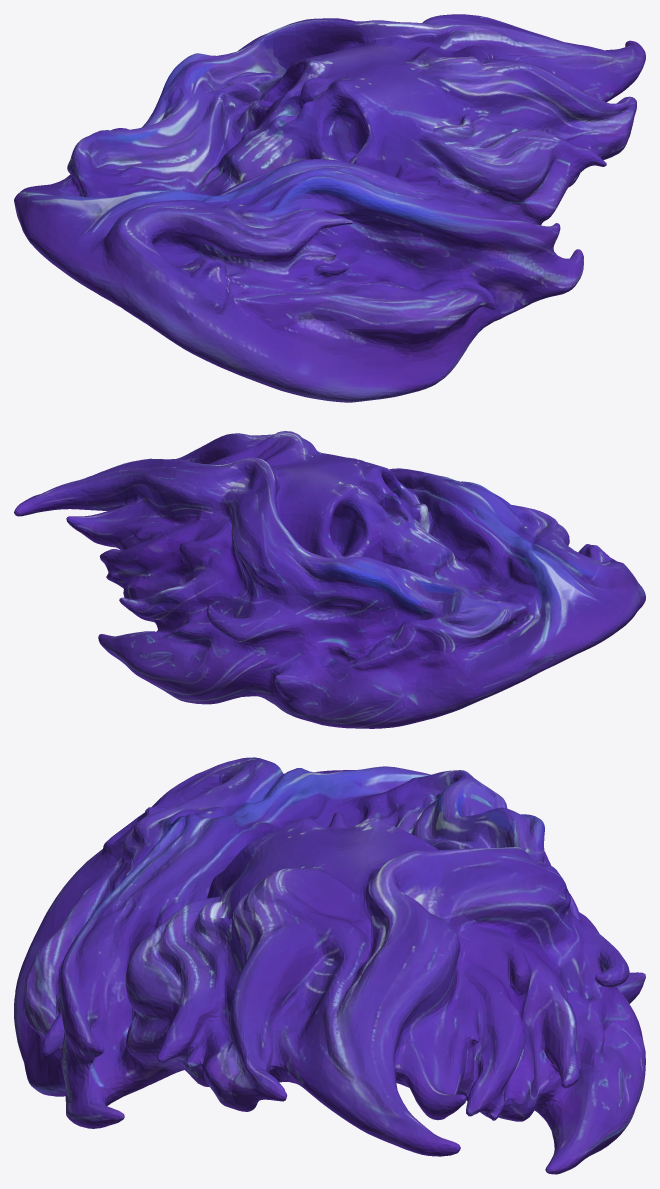
Rendered from purpe-skull-flames.glb.
3 renders of one model, top to bottom at view 1: azimuth 30°, elevation 25°; view 2: azimuth 150°, elevation 25°; view 3: azimuth 270°, elevation 25°, orthographic. The views are drawn at different scales.
Visible parts, largest first — view 1: purpe skull flames_textured.obj; view 2: purpe skull flames_textured.obj; view 3: purpe skull flames_textured.obj.
Boxes of the visible parts, left/top/right/bottom form: purpe skull flames_textured.obj: left=14, top=14, right=645, bottom=402; purpe skull flames_textured.obj: left=14, top=431, right=645, bottom=728; purpe skull flames_textured.obj: left=14, top=757, right=645, bottom=1174.
Size of the model in its own units: 1.99 by 0.7017 by 1.36.
1 material, 1 textured.
